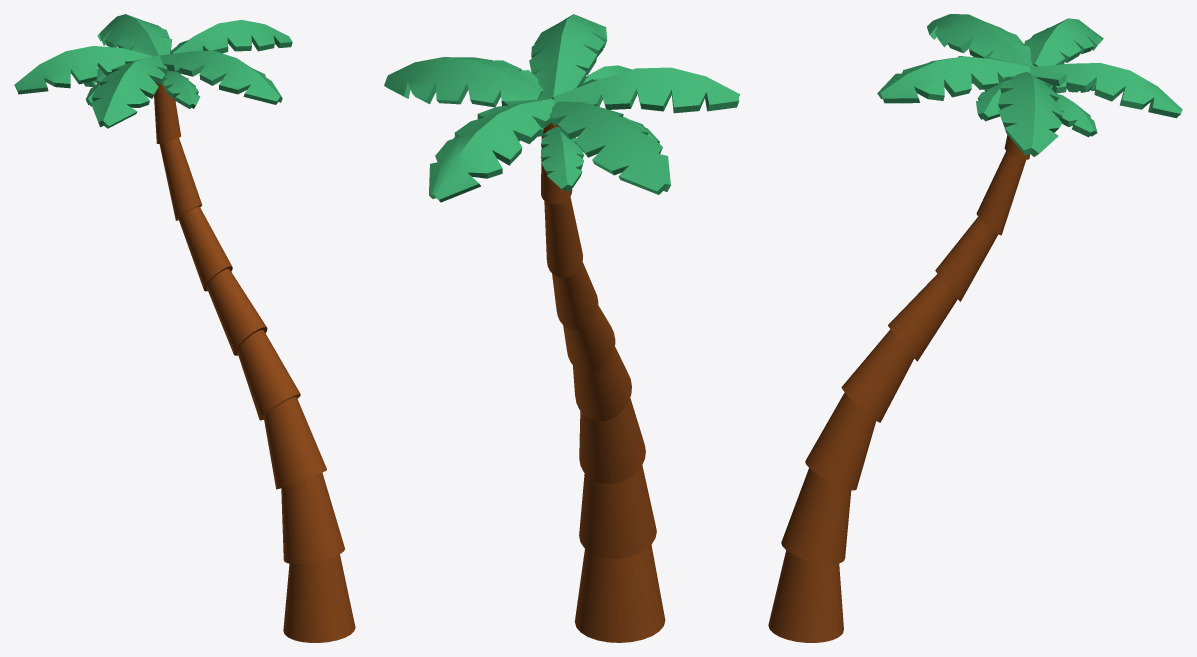
The model's file is Palm2.glb.
The picture shows the model from 3 angles, left to right: view 1: azimuth 30°, elevation 25°; view 2: azimuth 150°, elevation 25°; view 3: azimuth 270°, elevation 25°; orthographic projection. The views are drawn at different scales.
Parts seen in each view (by area): view 1: Cylinder.001, Plane; view 2: Plane, Cylinder.001; view 3: Cylinder.001, Plane.
Part boxes in pixels (left/top/right/bottom): Cylinder.001: left=154, top=82, right=355, bottom=642; Plane: left=14, top=14, right=292, bottom=128; Plane: left=384, top=14, right=739, bottom=202; Cylinder.001: left=541, top=122, right=665, bottom=642; Cylinder.001: left=768, top=135, right=1029, bottom=642; Plane: left=877, top=14, right=1182, bottom=156.
Bounding box in the file's own units: 3.91 × 7.99 × 5.37.
